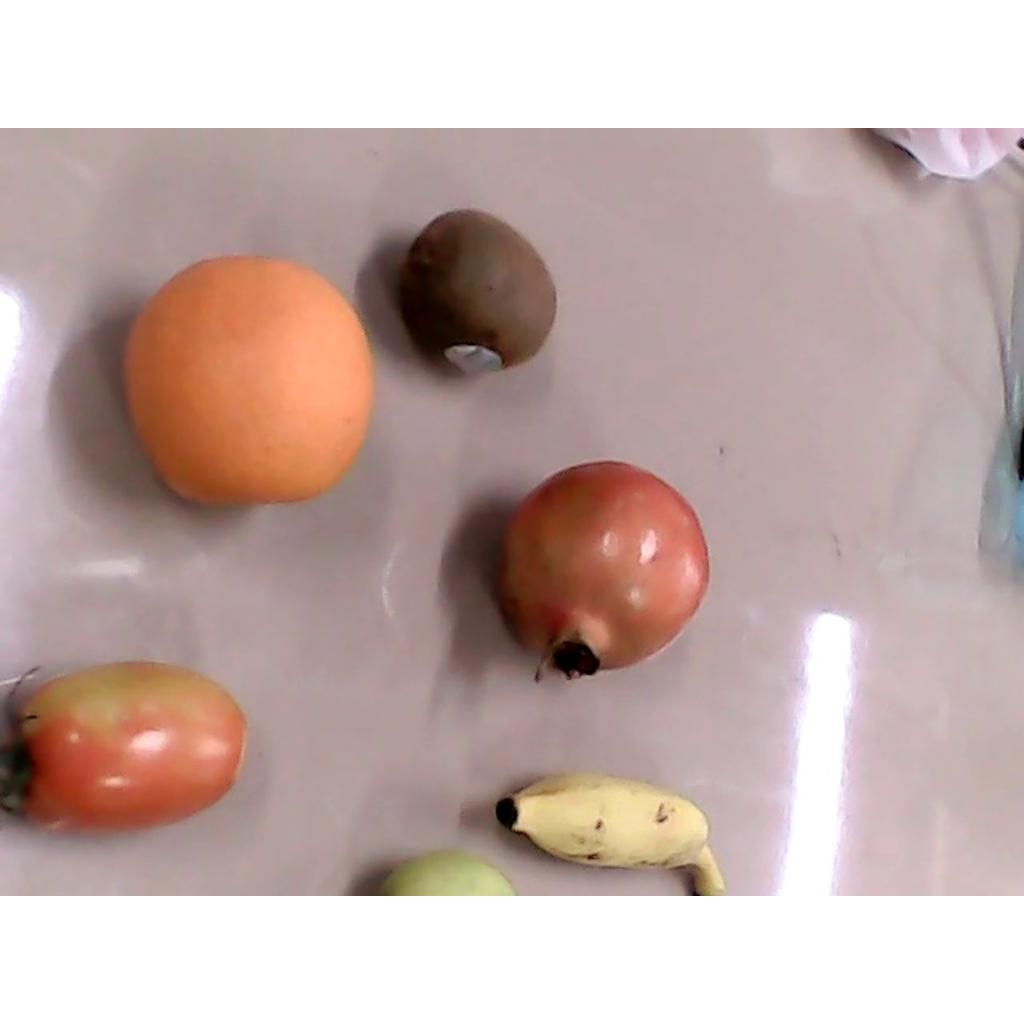kiwi: (396, 209, 556, 375)
lemon: (378, 849, 513, 894)
orange: (121, 253, 370, 503)
pomegranate: (488, 461, 710, 683)
tomato: (2, 661, 243, 832)
